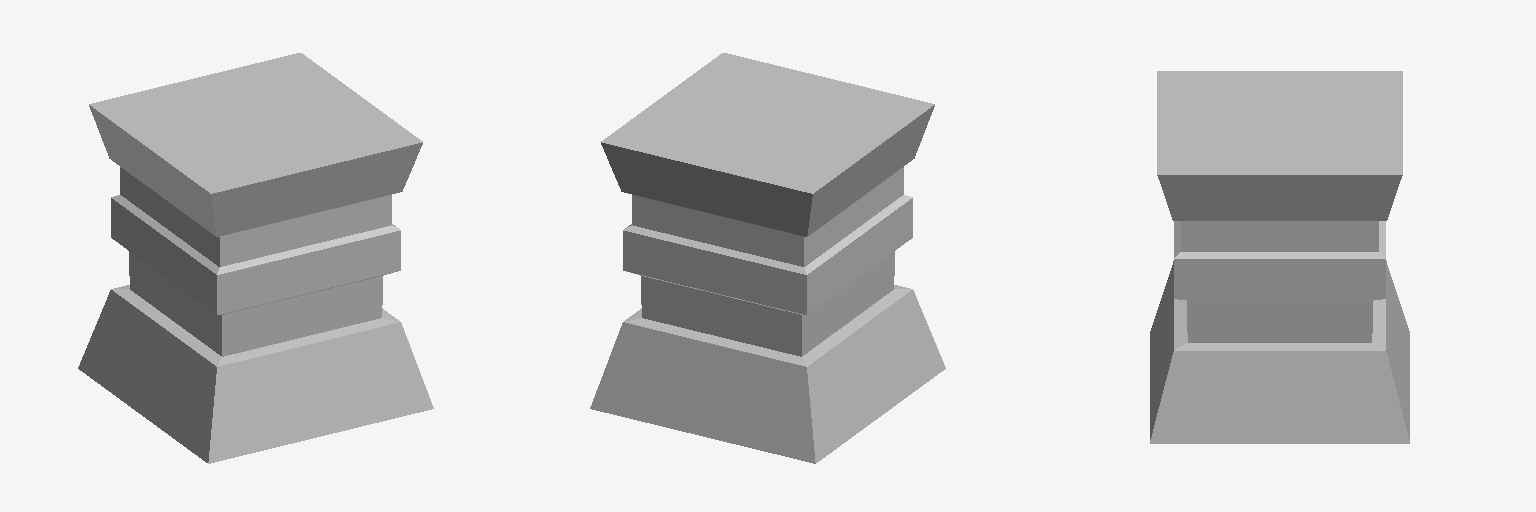
Rendered from Pedestal.obj.
3 views of the same model, side by side, from view 1: azimuth 30°, elevation 25°; view 2: azimuth 150°, elevation 25°; view 3: azimuth 270°, elevation 25° (orthographic).
Parts seen in each view (by area): view 1: Pedestal; view 2: Pedestal; view 3: Pedestal.
Part boxes in pixels (bbox=[...]): Pedestal: bbox=[78, 53, 433, 463]; Pedestal: bbox=[590, 53, 945, 463]; Pedestal: bbox=[1150, 71, 1409, 443].
Size of the model in its own units: 1.23 by 1.38 by 1.23.